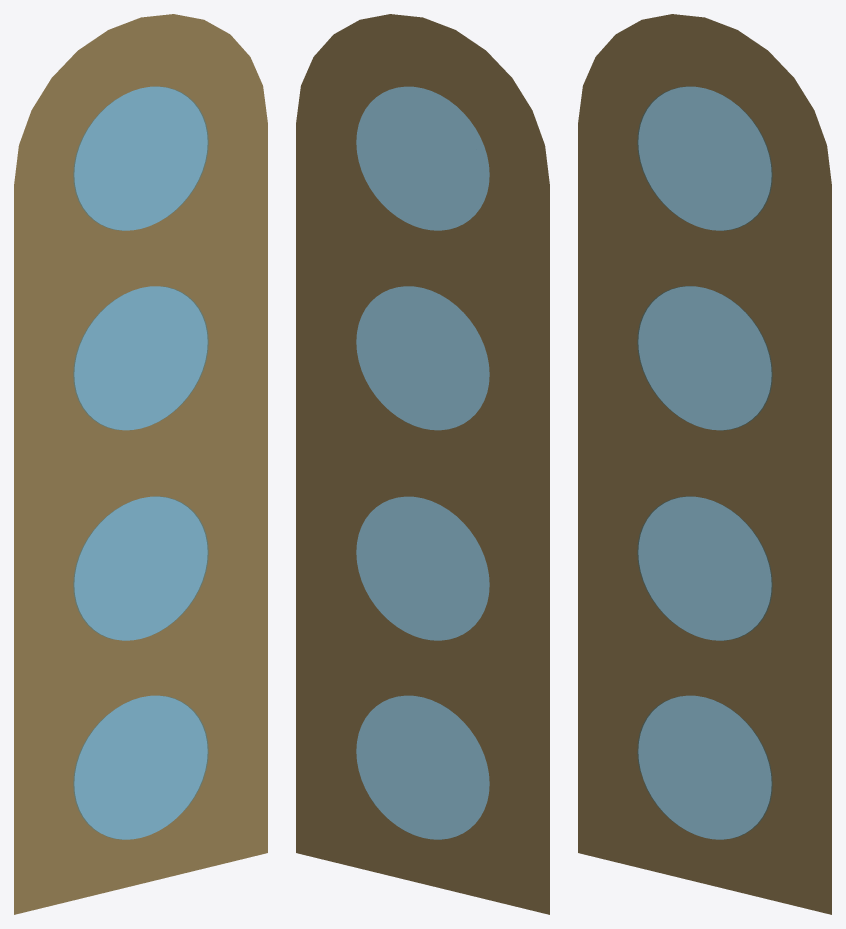
The model's file is WindowFrameX4.fbx.
The picture shows the model from 3 angles, left to right: view 1: azimuth 30°, elevation 25°; view 2: azimuth 150°, elevation 25°; view 3: azimuth 330°, elevation 25°; orthographic projection.
Parts seen in each view (by area): view 1: WindowFrame.x4; view 2: WindowFrame.x4; view 3: WindowFrame.x4.
Boxes of the visible parts, x1,y1,x2,y2 form: WindowFrame.x4: [14, 14, 267, 914]; WindowFrame.x4: [296, 14, 549, 914]; WindowFrame.x4: [578, 14, 831, 914].
Bounding box in the file's own units: 39.77 × 130 × 1.77e-05.
